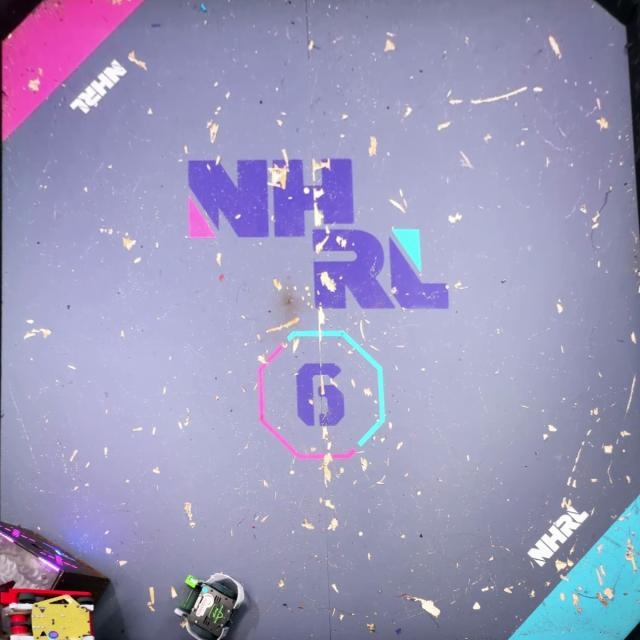housebot: (0, 520, 113, 640)
robot: (173, 572, 250, 640), (0, 589, 92, 640)
